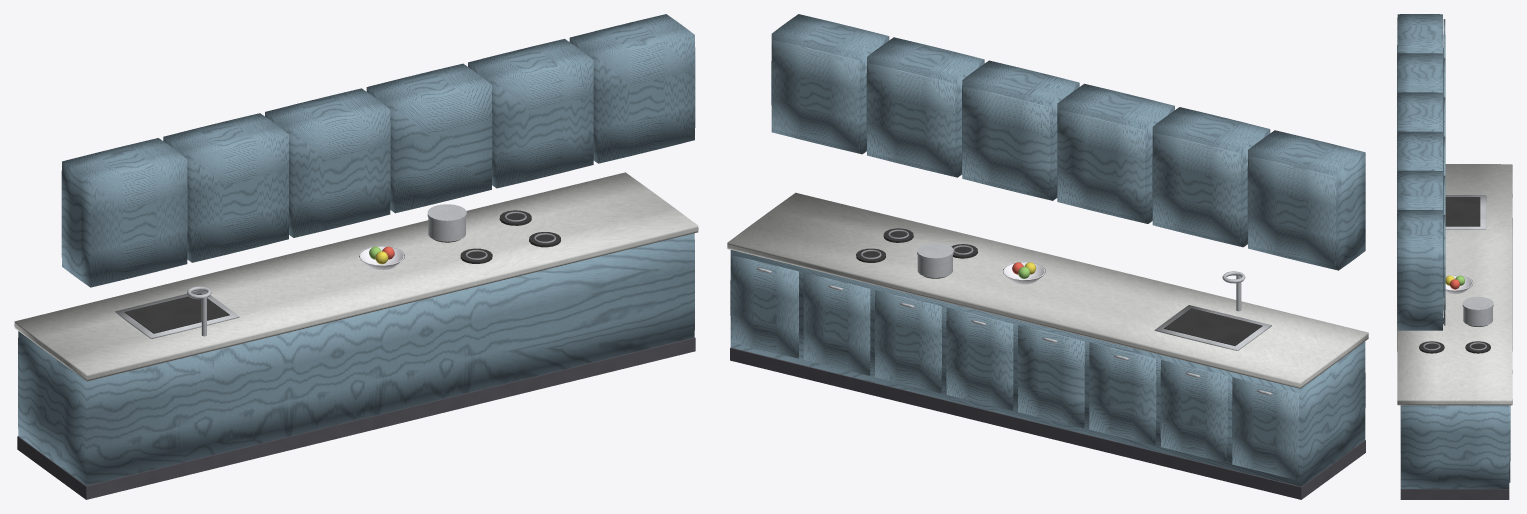
File: counter_run.glb
3 views of the same model, side by side, from view 1: azimuth 30°, elevation 25°; view 2: azimuth 150°, elevation 25°; view 3: azimuth 270°, elevation 25° (orthographic). The views are drawn at different scales.
Visible parts, largest first — view 1: counter_run_body; view 2: counter_run_body; view 3: counter_run_body.
Boxes of the visible parts, left/top/right/bottom form: counter_run_body: left=14, top=14, right=698, bottom=499; counter_run_body: left=727, top=14, right=1368, bottom=499; counter_run_body: left=1397, top=14, right=1512, bottom=499.
Size of the model in its own units: 4.82 by 2.4 by 1.
Materials: 11 (10 with a texture image).
